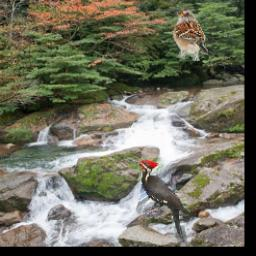Sparrow: (173, 9, 209, 62)
Woodpecker: (128, 158, 190, 243)
